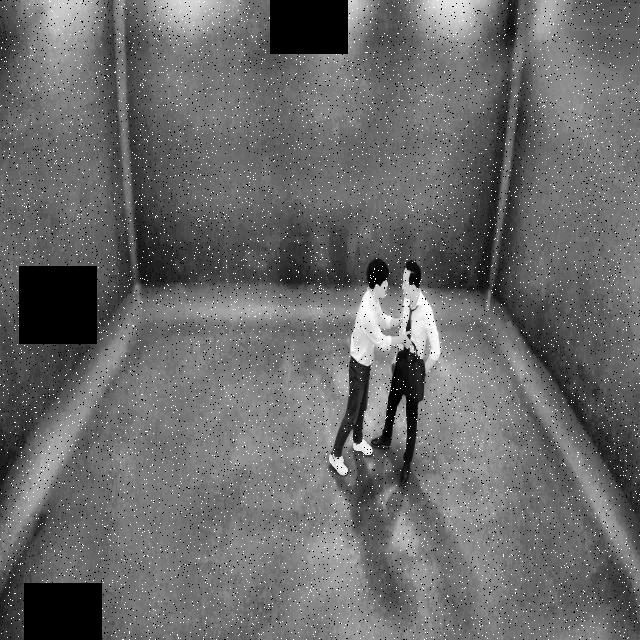assult: (312, 244, 457, 500), (354, 244, 436, 374)
